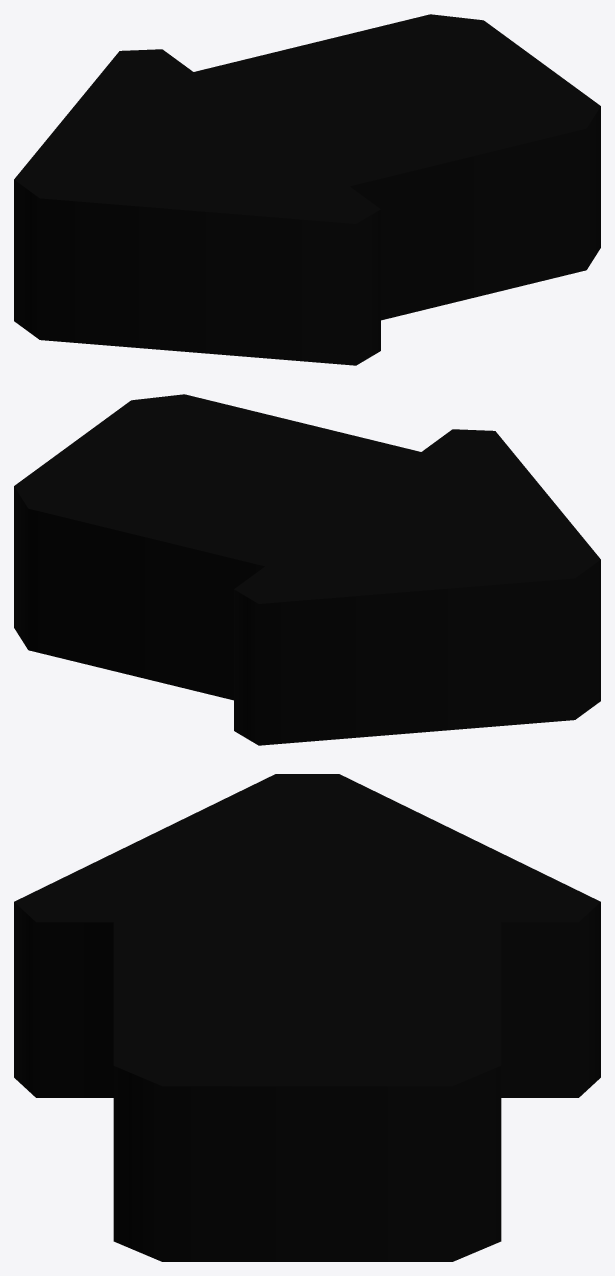
The model's file is arrow-rounded.obj.
3 views of the same model, one above another, from view 1: azimuth 30°, elevation 25°; view 2: azimuth 150°, elevation 25°; view 3: azimuth 270°, elevation 25° (orthographic). The views are drawn at different scales.
Parts seen in each view (by area): view 1: arrow-rounded; view 2: arrow-rounded; view 3: arrow-rounded.
Part boxes in pixels (x1,y1,x2,y2): arrow-rounded: [14, 14, 600, 365]; arrow-rounded: [14, 394, 600, 745]; arrow-rounded: [14, 774, 600, 1261].
Size of the model in its own units: 0.7618 by 0.2 by 0.6055.
